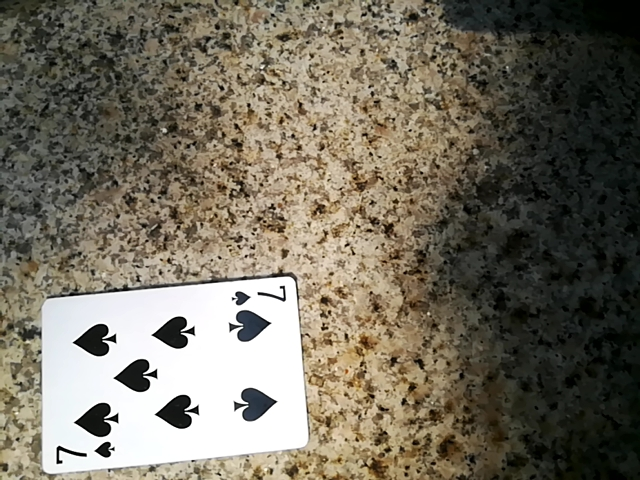ht 7: (32, 275, 302, 469)
